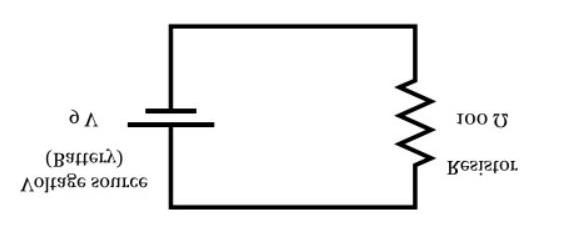Battery: (123, 89, 210, 146)
